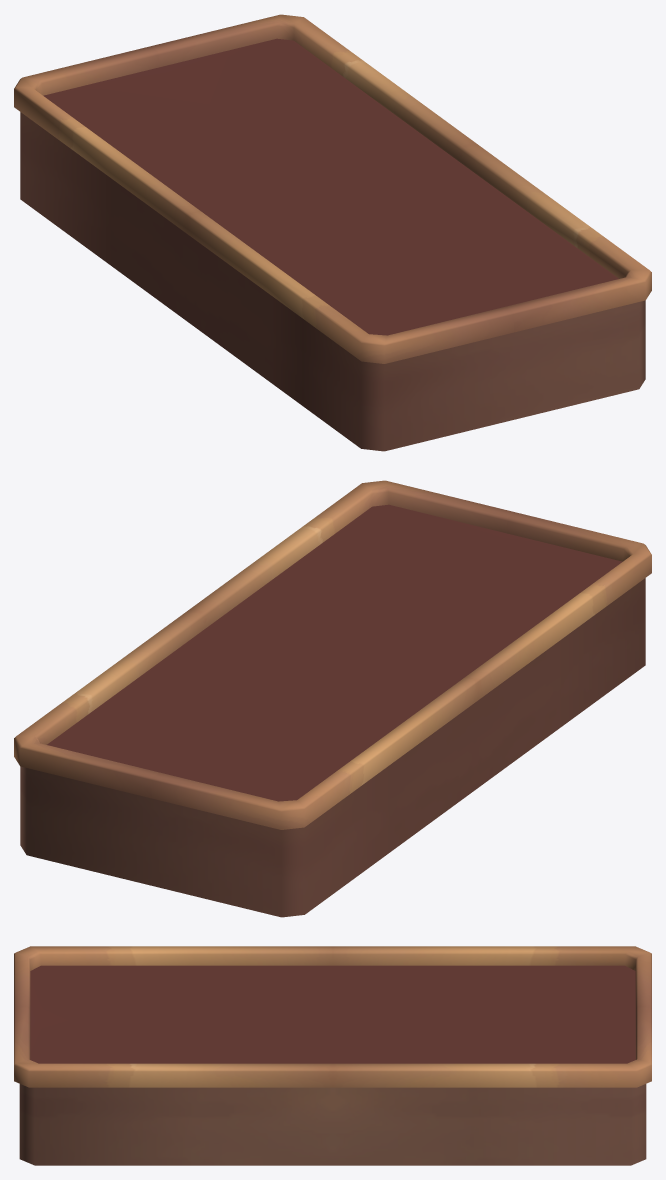
File: pot_big.fbx
3 renders of one model, top to bottom at view 1: azimuth 30°, elevation 25°; view 2: azimuth 150°, elevation 25°; view 3: azimuth 270°, elevation 25°, orthographic. The views are drawn at different scales.
Parts seen in each view (by area): view 1: pot_big; view 2: pot_big; view 3: pot_big.
Part boxes in pixels (bbox=[...]): pot_big: bbox=[14, 14, 651, 451]; pot_big: bbox=[14, 480, 651, 917]; pot_big: bbox=[14, 946, 651, 1165].
Size of the model in its own units: 136 by 49.63 by 296.
